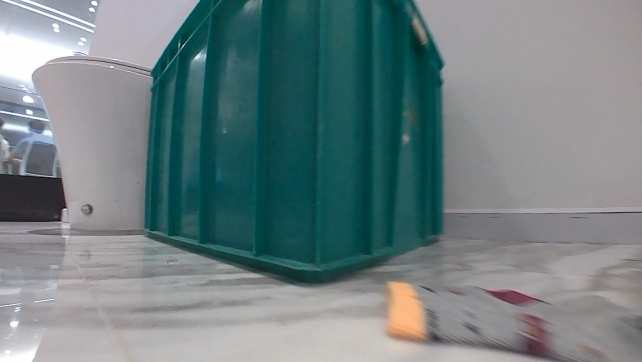socks: (380, 271, 641, 361)
toilet: (26, 51, 157, 235)
